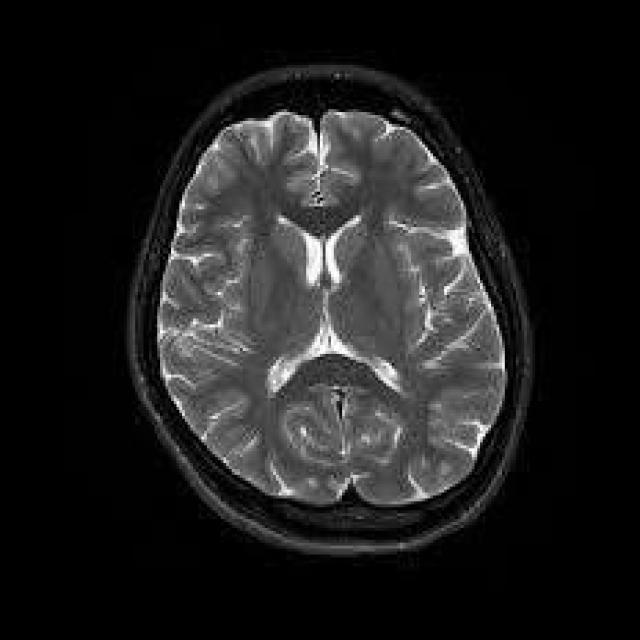notumor: (127, 65, 532, 554)
